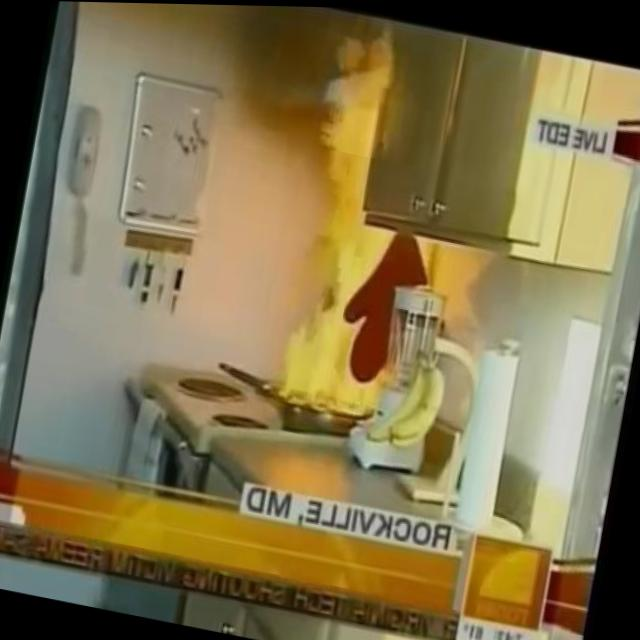fire: (272, 24, 442, 424)
